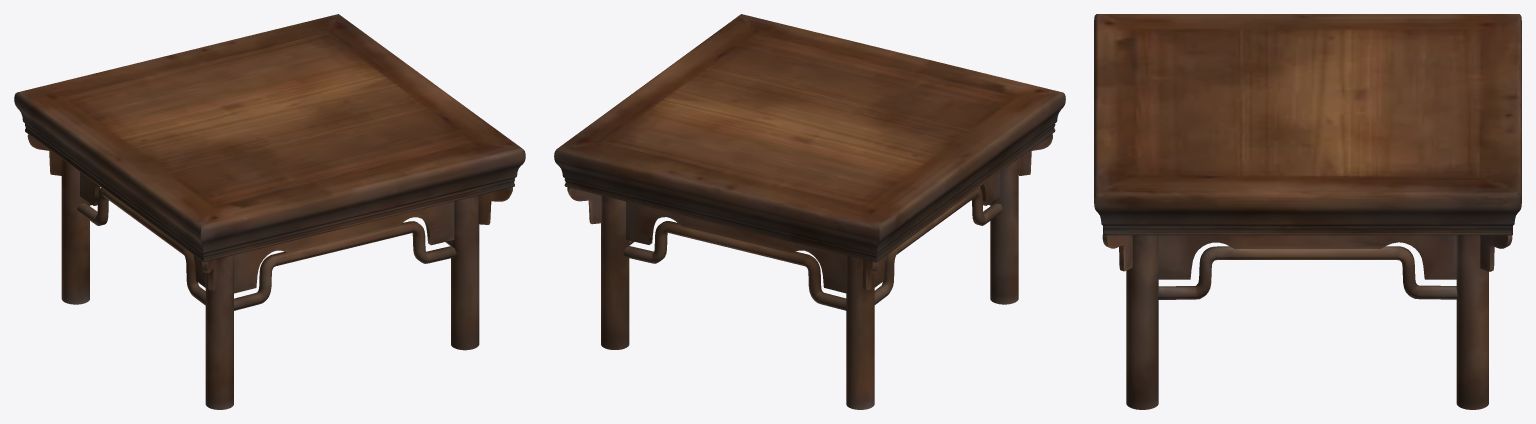
Rendered from chinese_tea_table.glb.
3 views of the same model, side by side, from view 1: azimuth 30°, elevation 25°; view 2: azimuth 150°, elevation 25°; view 3: azimuth 270°, elevation 25° (orthographic). The views are drawn at different scales.
Parts seen in each view (by area): view 1: chinese_tea_table; view 2: chinese_tea_table; view 3: chinese_tea_table.
Boxes of the visible parts, x1,y1,x2,y2 form: chinese_tea_table: [14, 14, 525, 409]; chinese_tea_table: [554, 14, 1065, 409]; chinese_tea_table: [1094, 14, 1521, 409].
Size of the model in its own units: 0.8413 by 0.4986 by 0.8356.
1 material, 1 textured.
